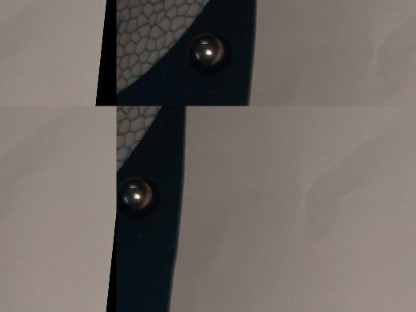ironball: (185, 26, 232, 75), (117, 173, 158, 214)
